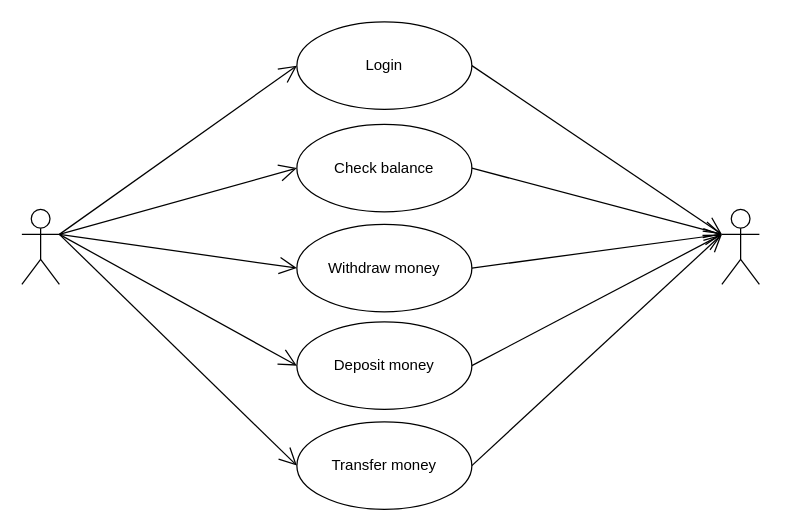
Image size: 788x531. Some labels were removed from this diagram. Each missing label, with the box of its shape:
System: (721, 208, 759, 284)
User: (21, 208, 59, 284)
